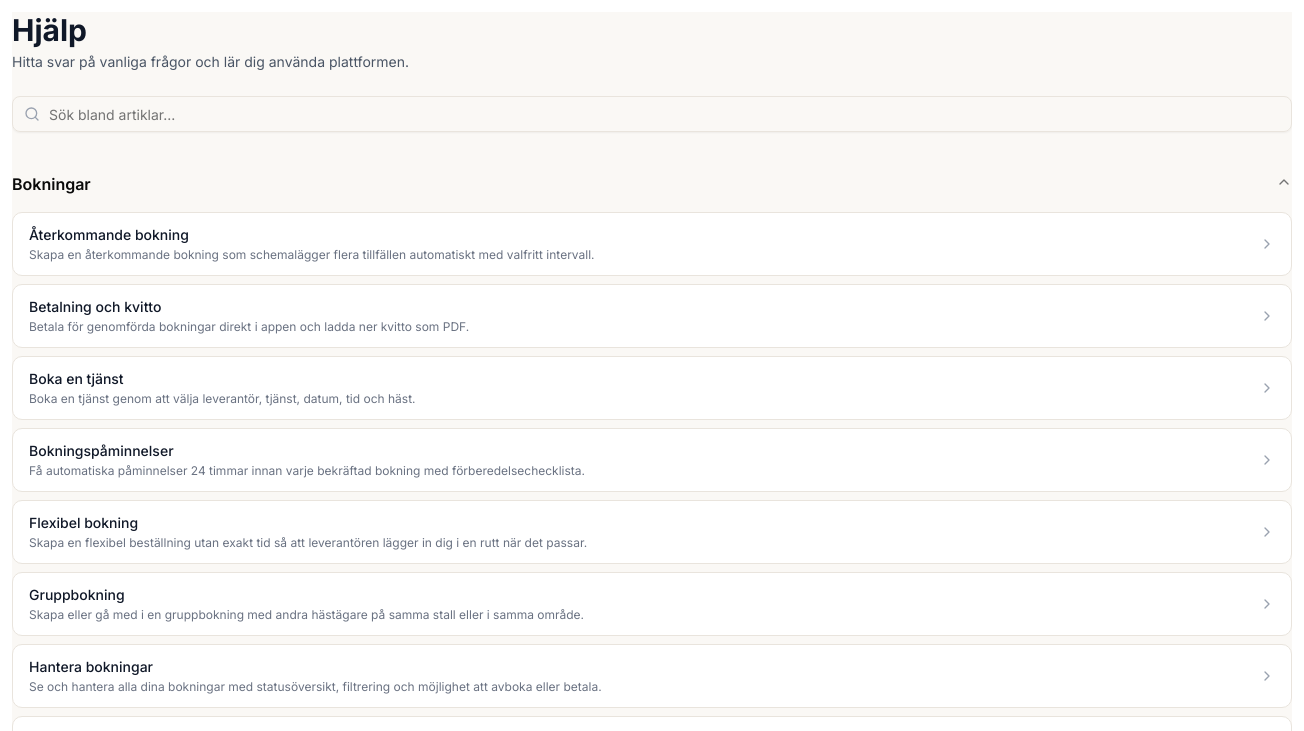
HelpCenter › filters articles when searching
The image size is (1304, 731).
Type "häst" into the search field with placeholder "Sök bland artiklar...".
click(652, 114); type("häst")  # box 12,96 -> 1292,132
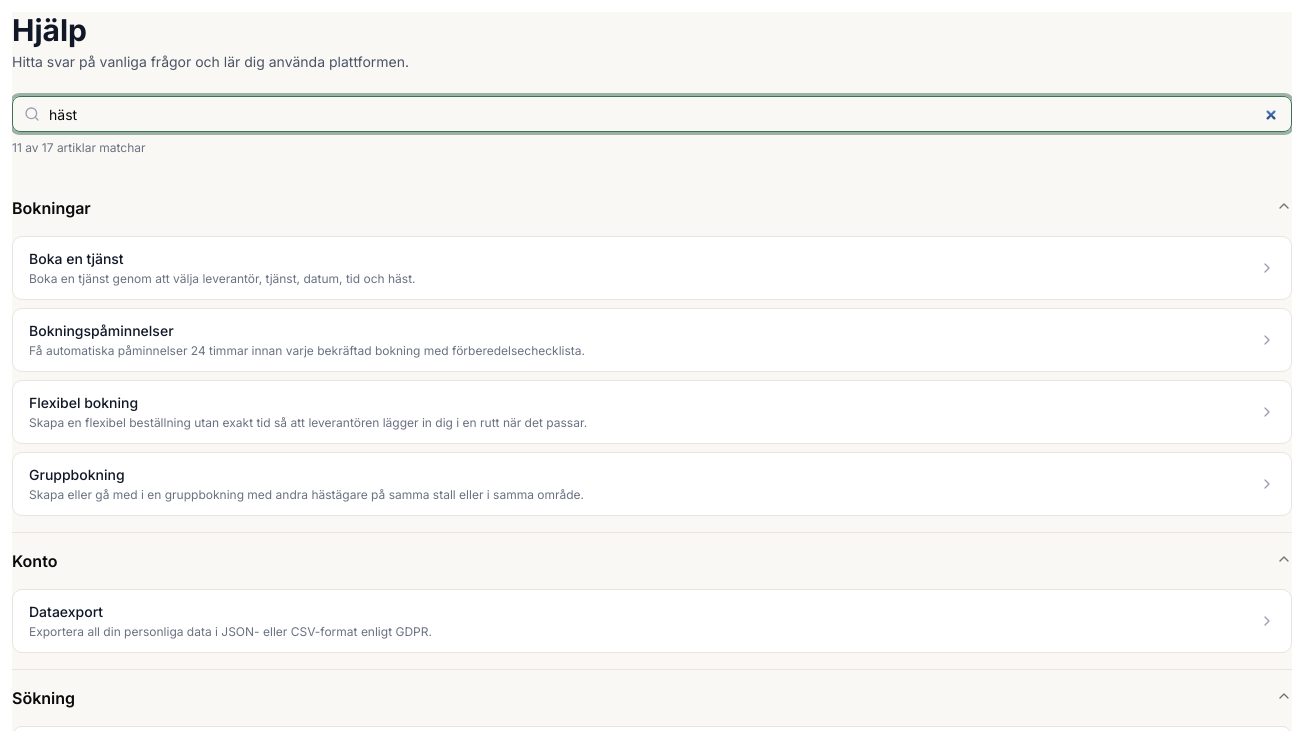
Check: the text "11 av 17 artiklar matchar" is shown, box 12,140 -> 146,155
